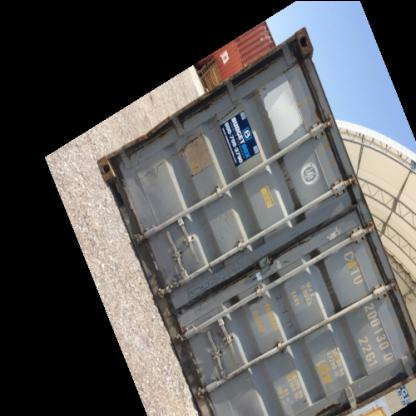Damage: (184, 257, 252, 299), (179, 109, 241, 153), (178, 330, 210, 384), (275, 288, 303, 337), (386, 288, 414, 336), (292, 30, 316, 70), (277, 166, 303, 200)
